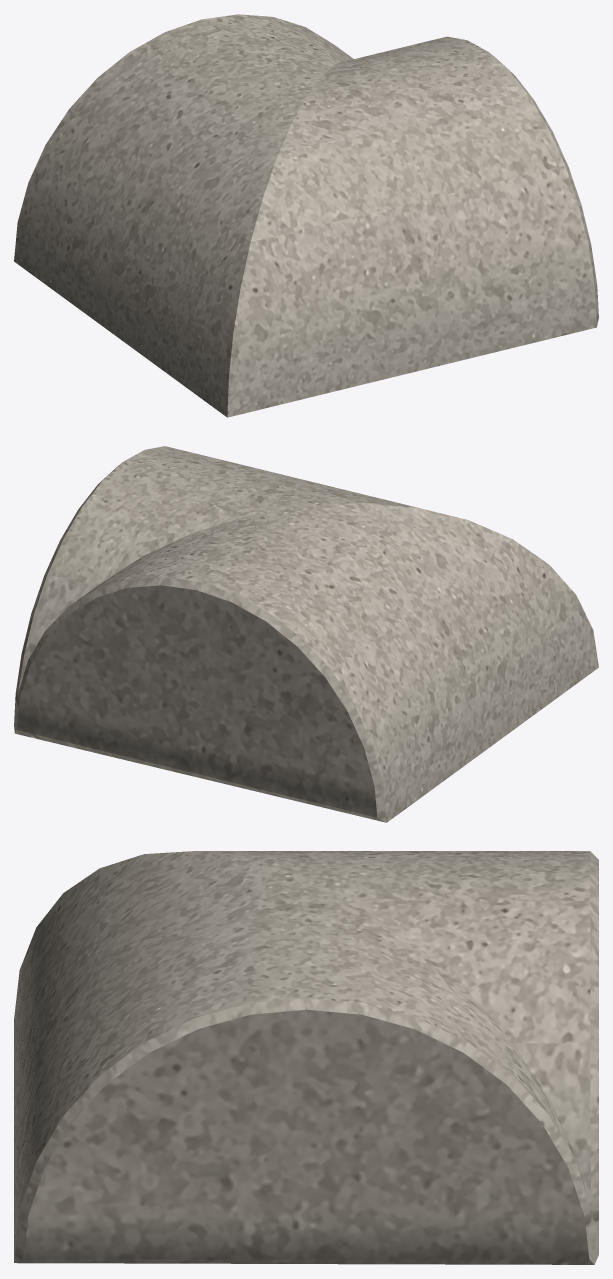
File: GB_005_006_007_008_wall_top_rounded_corner.glb
The picture shows the model from 3 angles, top to bottom: view 1: azimuth 30°, elevation 25°; view 2: azimuth 150°, elevation 25°; view 3: azimuth 270°, elevation 25°; orthographic projection. The views are drawn at different scales.
Visible parts, largest first — view 1: GB_005_006_007_008_wall_top_rounded_corner; view 2: GB_005_006_007_008_wall_top_rounded_corner; view 3: GB_005_006_007_008_wall_top_rounded_corner.
Part boxes in pixels (x1,y1,x2,y2): GB_005_006_007_008_wall_top_rounded_corner: (14, 14, 598, 417); GB_005_006_007_008_wall_top_rounded_corner: (14, 446, 598, 822); GB_005_006_007_008_wall_top_rounded_corner: (14, 851, 598, 1264).
Size of the model in its own units: 0.7498 by 0.3748 by 0.7498.
Materials: 1 (1 with a texture image).
